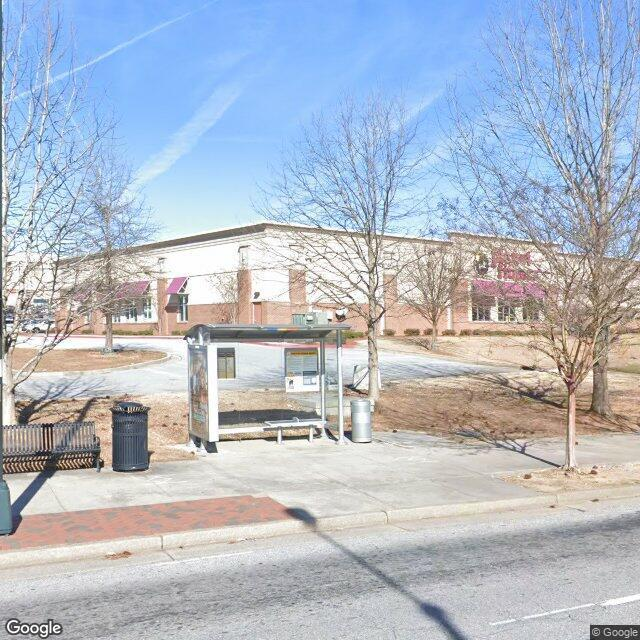seating: (0, 421, 103, 472), (262, 418, 326, 444)
shelter: (185, 322, 354, 450)
trash_can: (111, 401, 151, 472), (350, 397, 372, 442)
